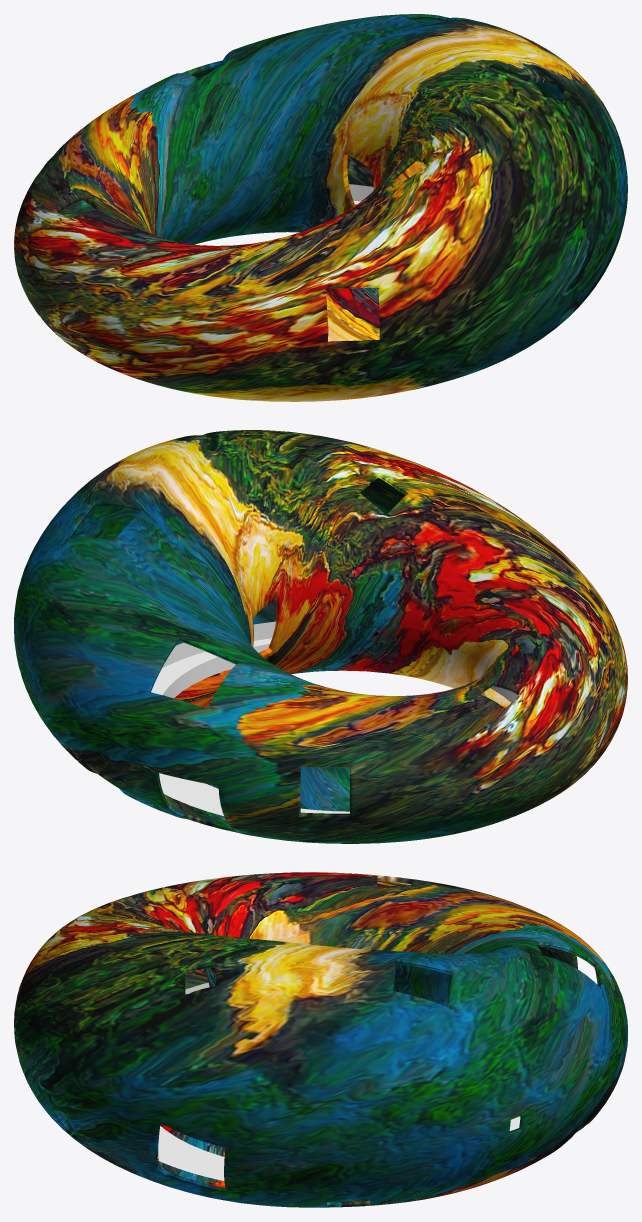
3 views of the same model, one above another, from view 1: azimuth 30°, elevation 25°; view 2: azimuth 150°, elevation 25°; view 3: azimuth 270°, elevation 25° (orthographic). The views are drawn at different scales.
Visible parts, largest first — view 1: Solids; view 2: Solids, Ramps_2, Ramps; view 3: Solids, Ramps_2.
Boxes of the visible parts, left/top/right/bottom form: Solids: left=14, top=14, right=627, bottom=401; Solids: left=14, top=430, right=627, bottom=843; Ramps_2: left=151, top=638, right=510, bottom=815; Ramps: left=162, top=621, right=518, bottom=702; Solids: left=14, top=872, right=627, bottom=1207; Ramps_2: left=158, top=1116, right=520, bottom=1180.
Size of the model in its own units: 51.78 by 21.36 by 49.58.
Materials: 2 (2 with a texture image).
